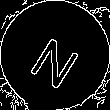N_NE: (25, 23, 85, 87)
